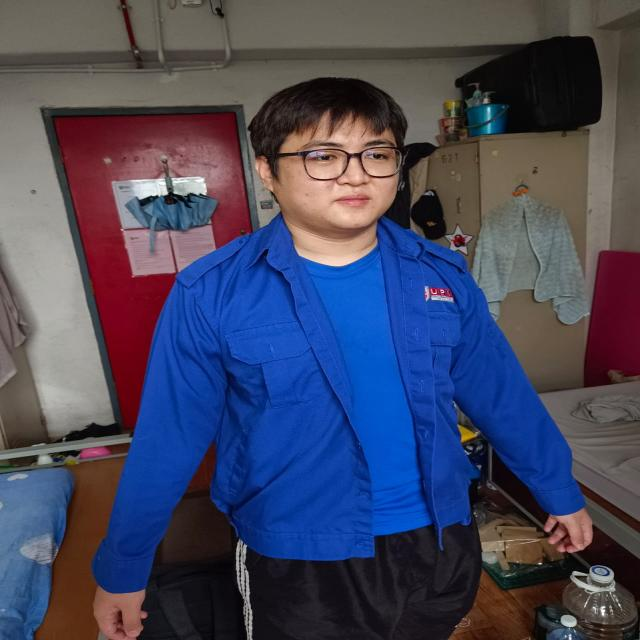person_with_labcoat: (93, 78, 590, 640)
